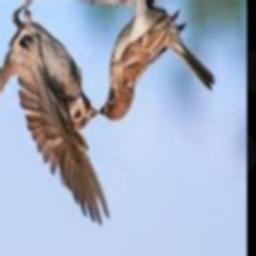Sparrow: (0, 0, 110, 223), (100, 0, 216, 122)
